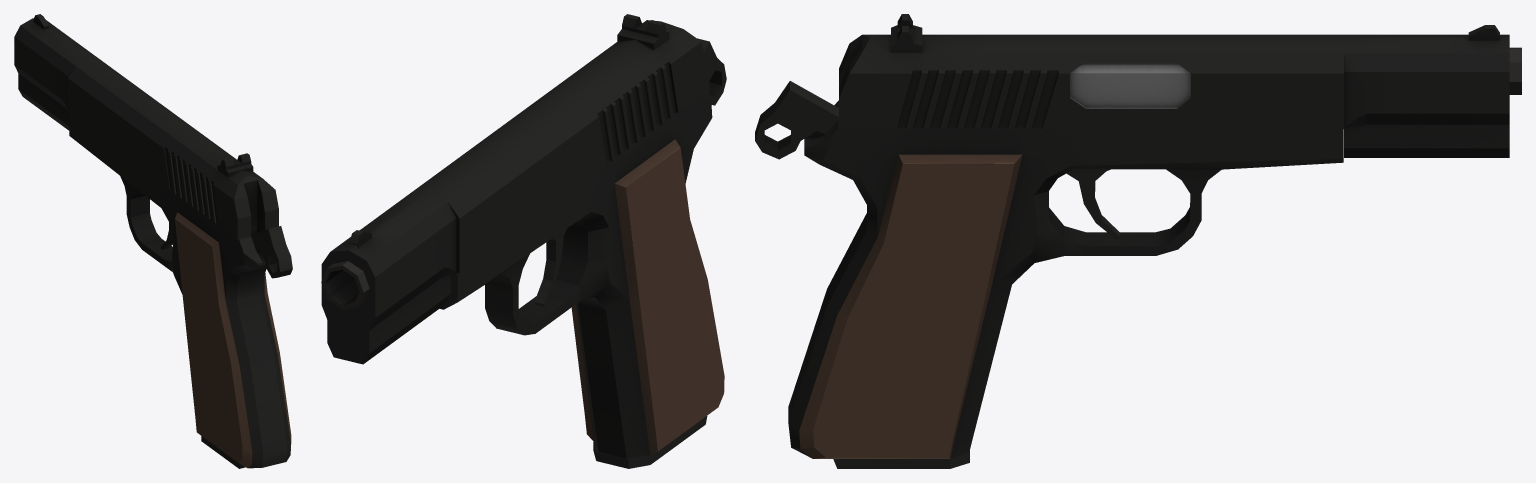
The model's file is Pistol_HP.fbx.
3 views of the same model, side by side, from view 1: azimuth 30°, elevation 25°; view 2: azimuth 150°, elevation 25°; view 3: azimuth 270°, elevation 25° (orthographic). The views are drawn at different scales.
Parts seen in each view (by area): view 1: Pistol_HP_Grip, Pistol_HP_Slide, Pistol_HP_Hammer; view 2: Pistol_HP_Grip, Pistol_HP_Slide, Pistol_HP_Barrel, Pistol_HP_Magazine, Pistol_HP_Trigger, Pistol_HP_Hammer; view 3: Pistol_HP_Grip, Pistol_HP_Slide, Pistol_HP_Hammer, Pistol_HP_Magazine, Pistol_HP_Trigger.
Boxes of the visible parts, <box> form: Pistol_HP_Grip: <box>69,117,291,468</box>; Pistol_HP_Slide: <box>14,14,278,239</box>; Pistol_HP_Hammer: <box>251,226,292,278</box>; Pistol_HP_Grip: <box>439,93,724,458</box>; Pistol_HP_Slide: <box>321,14,706,364</box>; Pistol_HP_Barrel: <box>321,261,369,309</box>; Pistol_HP_Magazine: <box>593,416,707,468</box>; Pistol_HP_Trigger: <box>534,228,567,306</box>; Pistol_HP_Hammer: <box>697,38,726,105</box>; Pistol_HP_Grip: <box>788,100,1343,458</box>; Pistol_HP_Slide: <box>839,14,1509,157</box>; Pistol_HP_Hammer: <box>755,81,838,159</box>; Pistol_HP_Magazine: <box>833,450,969,468</box>; Pistol_HP_Trigger: <box>1066,169,1119,239</box>.
Size of the model in its own units: 4.69 by 26.63 by 42.87.
